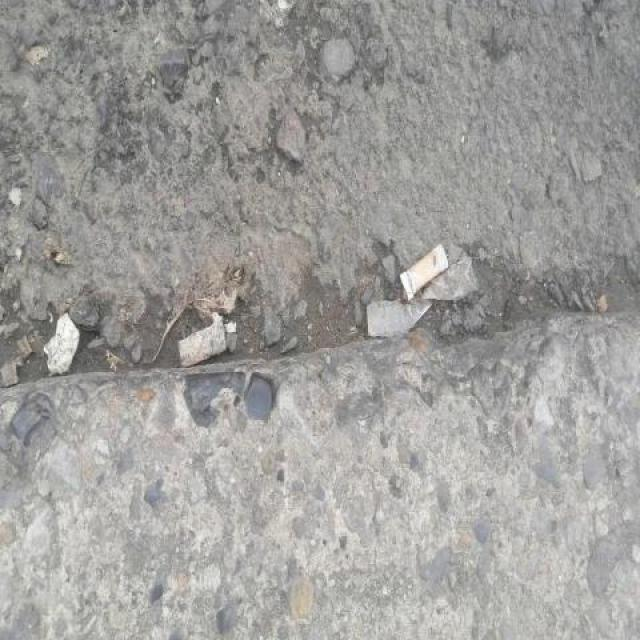non-organic waste: (394, 240, 450, 307)
